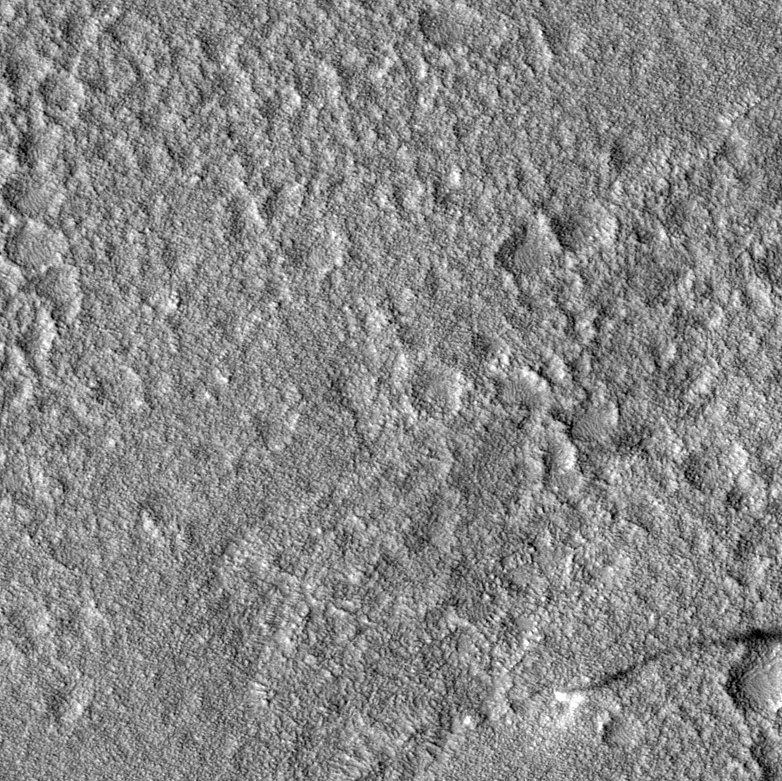dust_devil: (550, 622, 782, 735)
